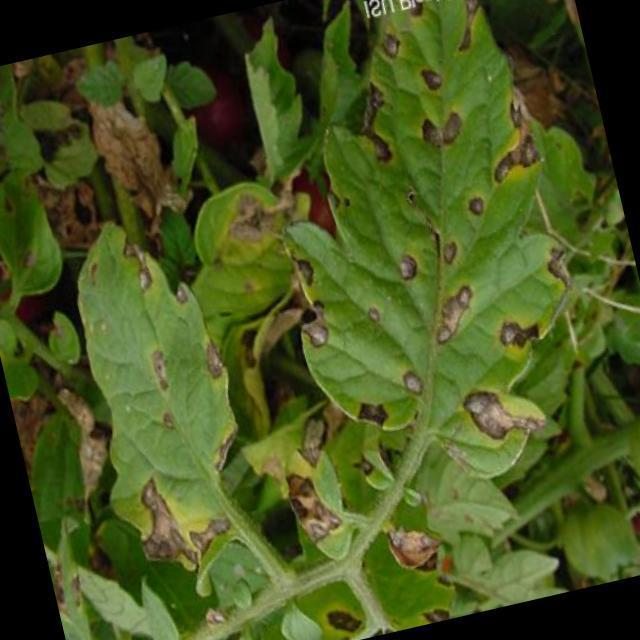Septoria: (284, 180, 566, 470), (329, 0, 538, 211), (70, 229, 240, 456)
